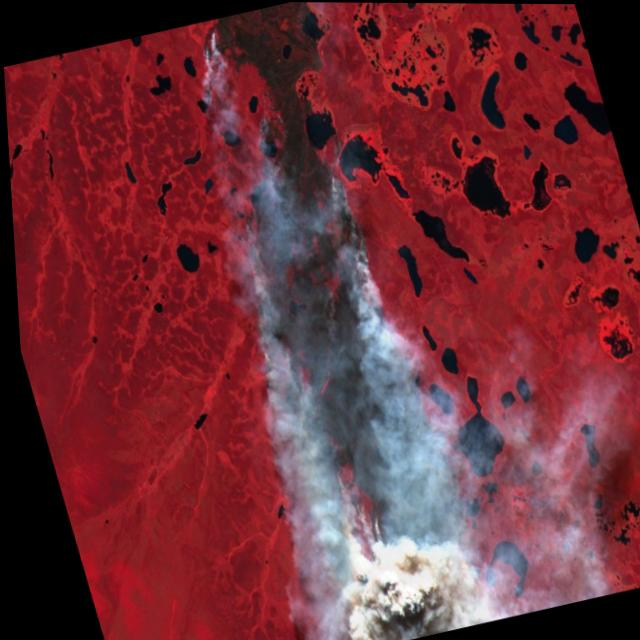fire: (156, 1, 498, 640)
